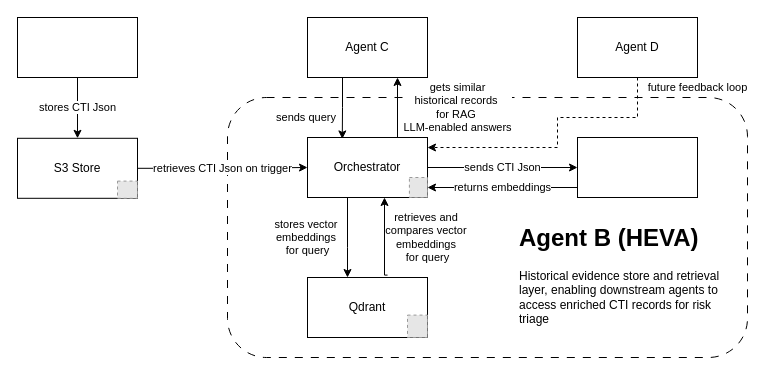
The diagram is 765 pixels wide and 375 high, and some of its shapes have lost their labels. Grey dashed boxes stand in for pictures. Here are the shapes that lost their labels. From the top down, the centre of each, then its label:
At [77,47]: "Agent A".
At [637,167]: "Embedding Model".
